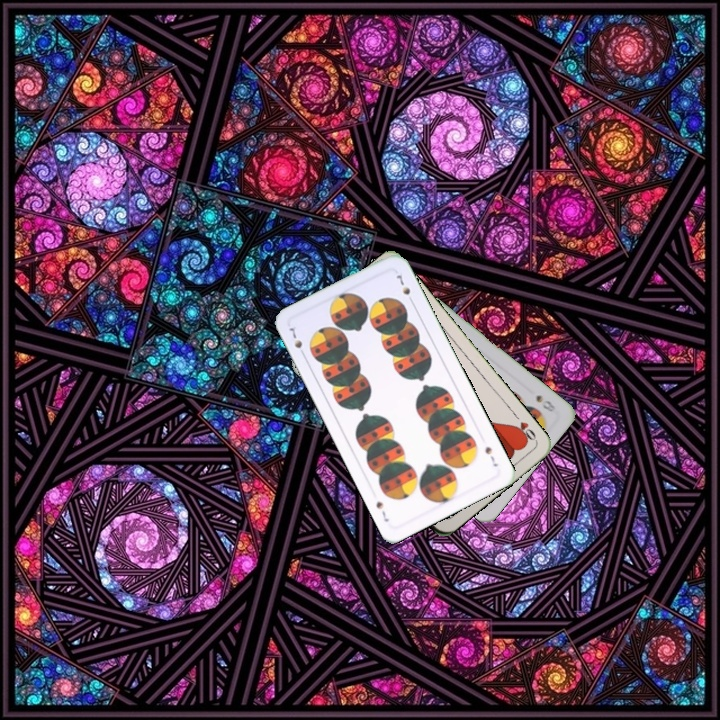HO: (509, 409, 539, 445)
S7: (285, 321, 308, 360), (481, 442, 501, 469)
S8: (532, 391, 558, 414)
